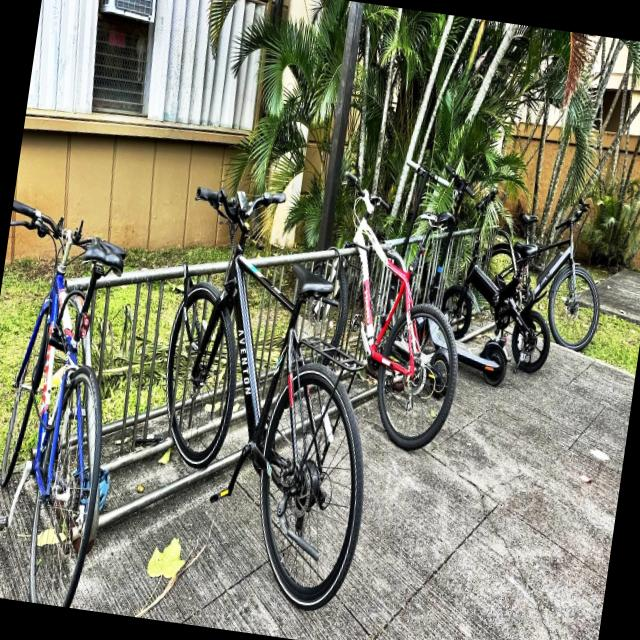bike: (134, 178, 406, 616), (279, 168, 483, 456), (0, 198, 138, 609), (436, 180, 569, 376), (472, 186, 614, 353)
